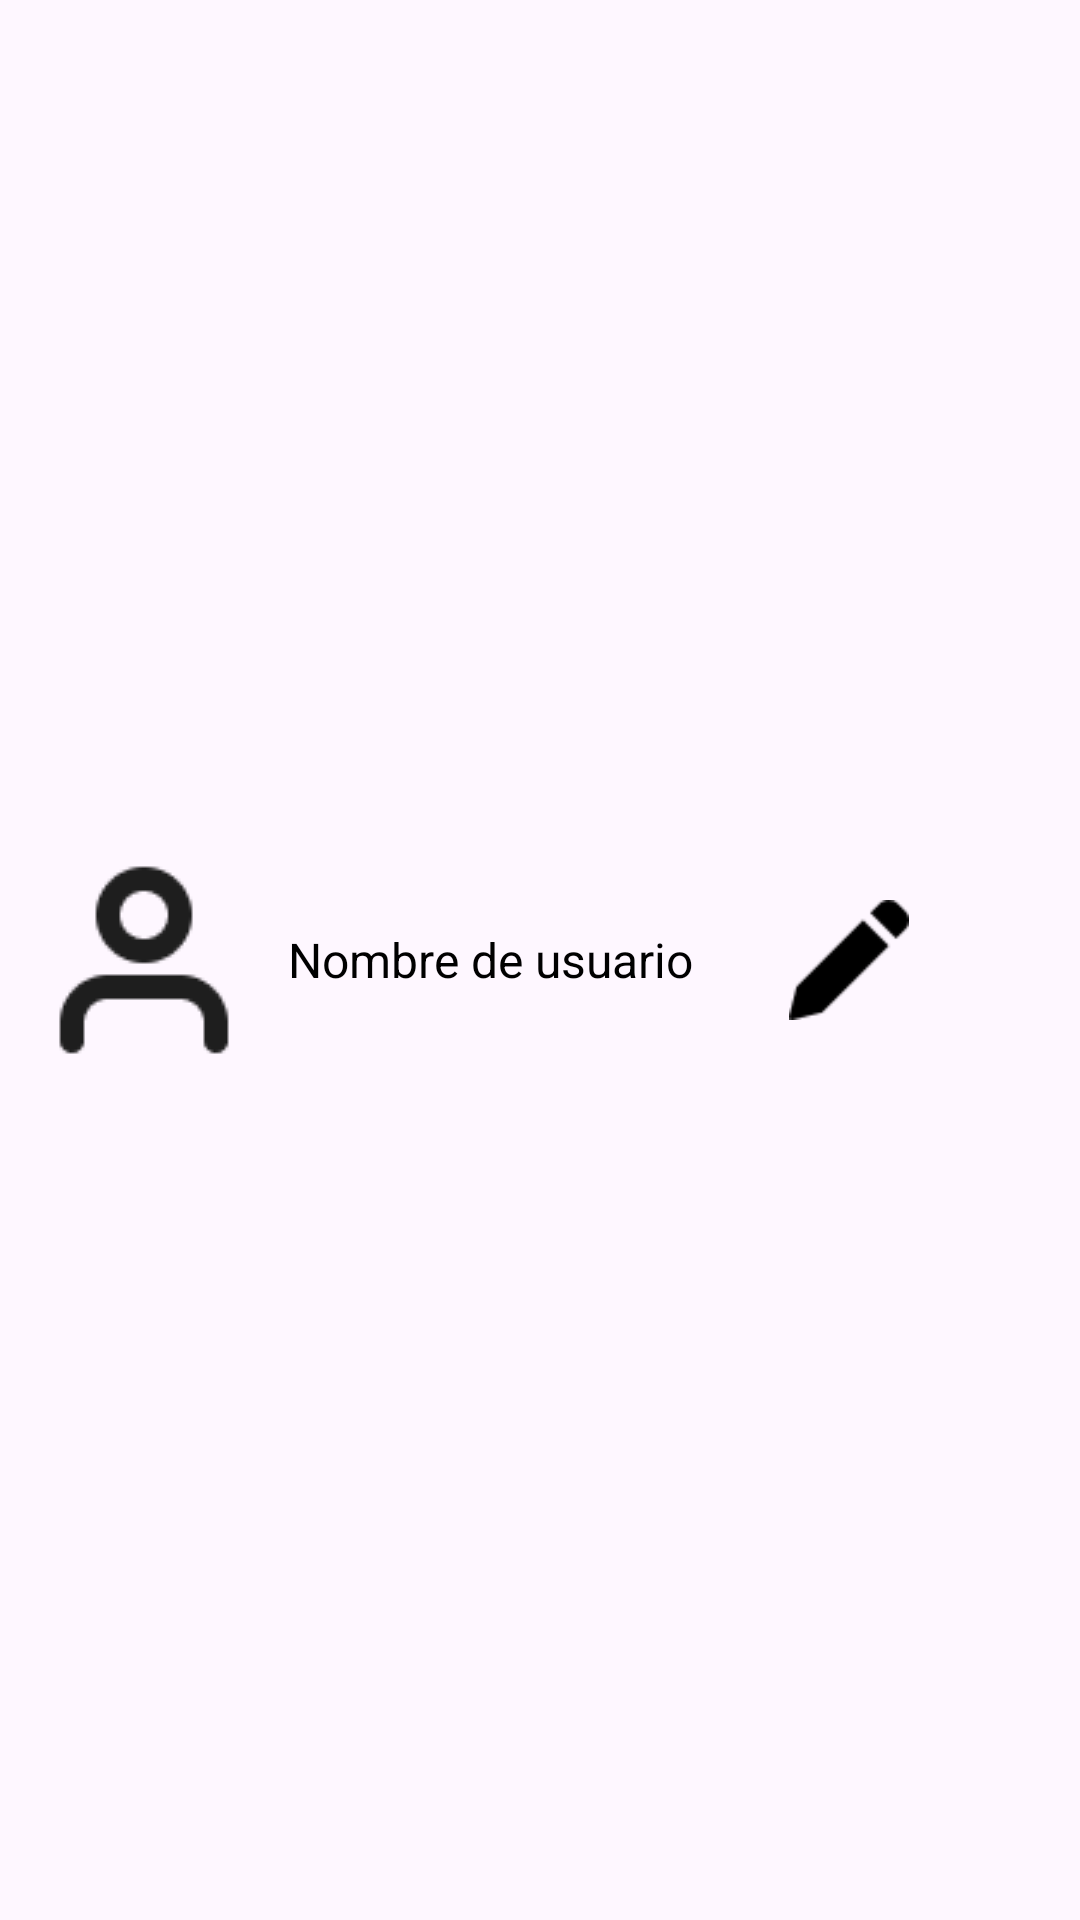

Icon bounding boxes for this 1080x1920 phone screenshot, format (x1, y1, x2, y2):
Editar usuario: (789, 900, 909, 1020)
Icono usuario: (59, 866, 229, 1054)
